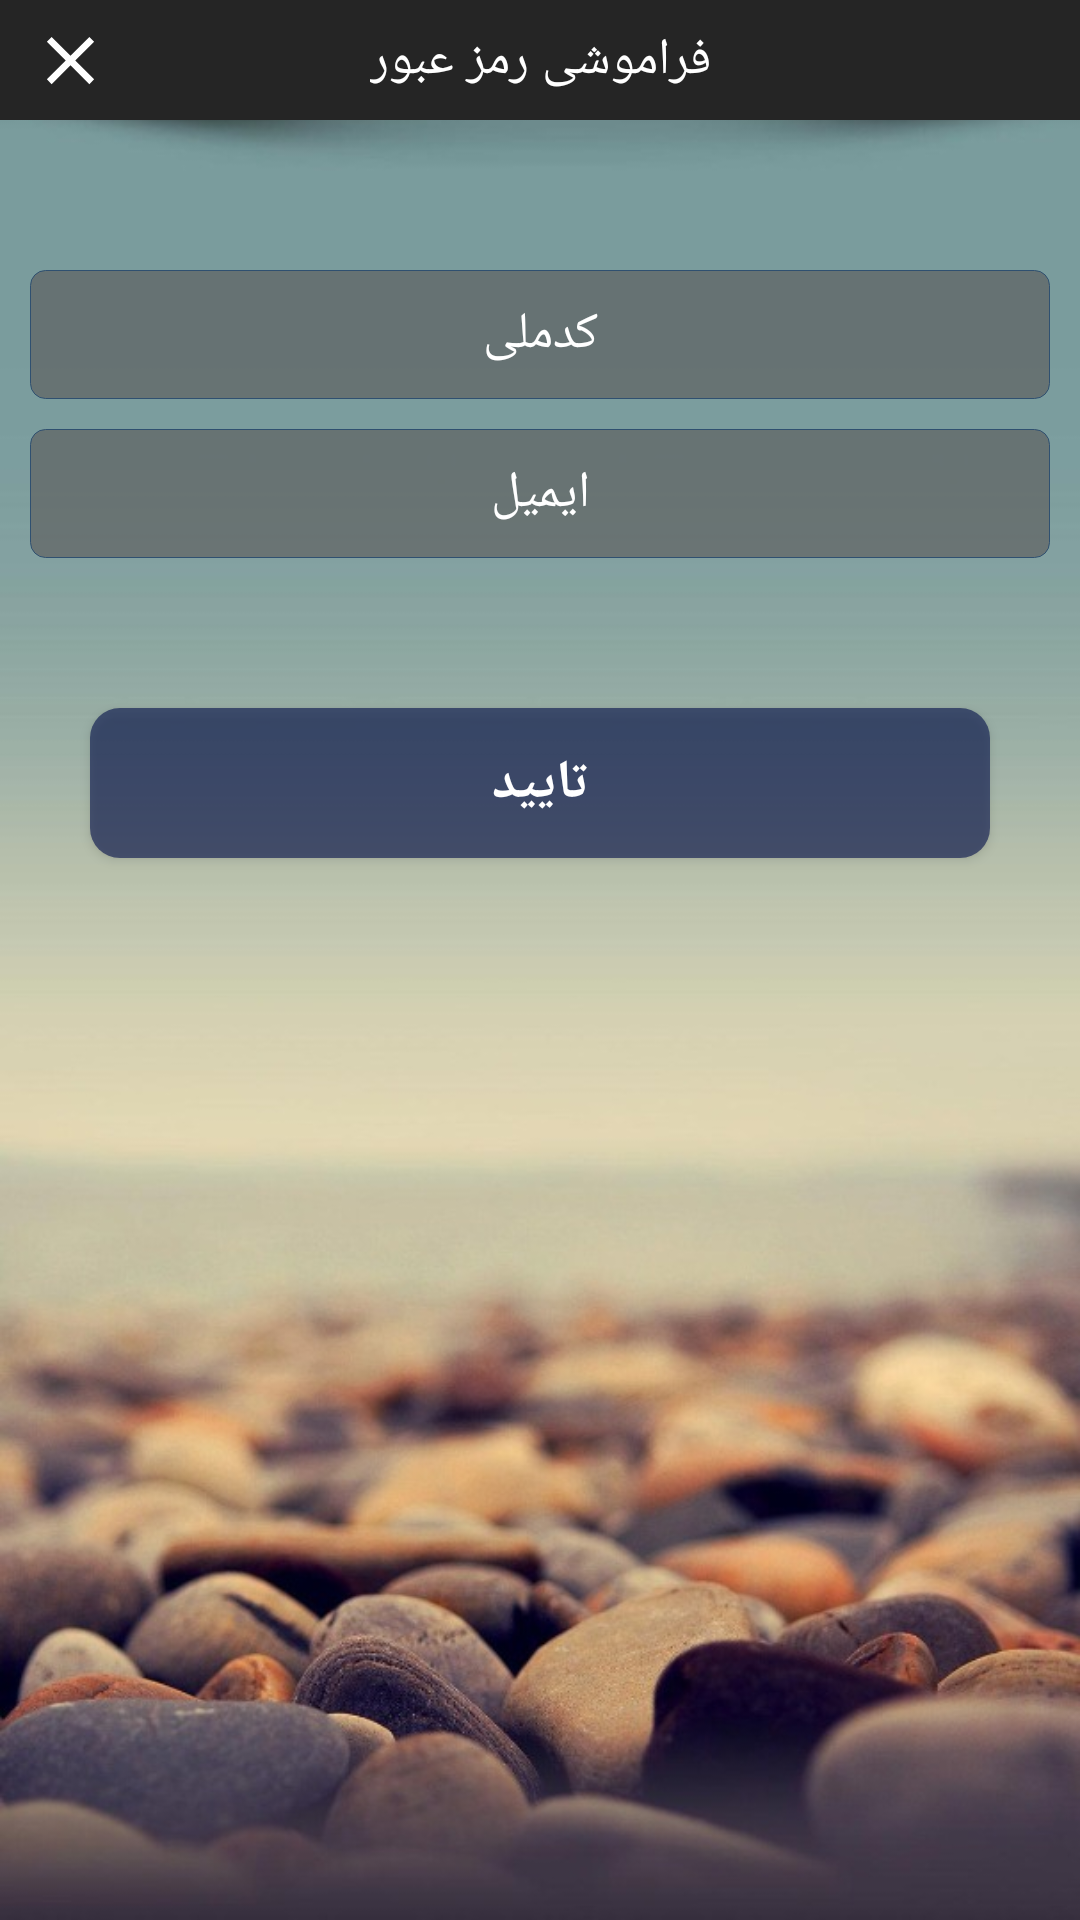

Icons on this 1080px x 1920px Android screen, each with its box as (x1, y1, x2, y2):
close dialog: (47, 37, 94, 84)
